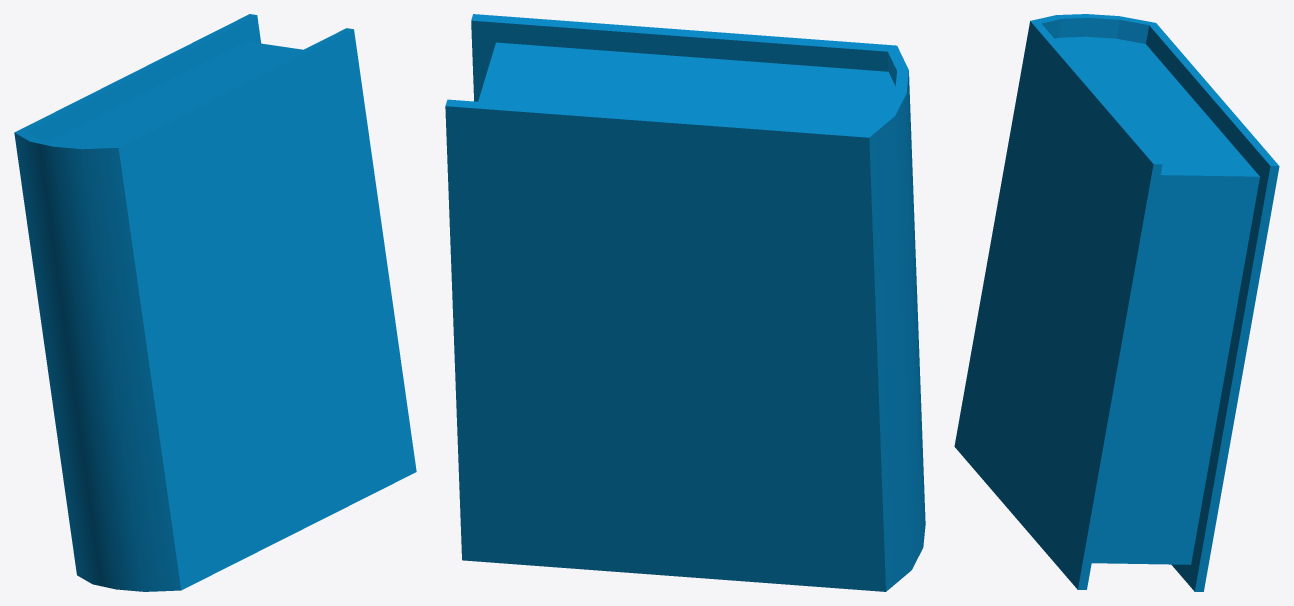
File: HalloweenRoomA_BooksD.fbx
3 renders of one model, left to right at view 1: azimuth 30°, elevation 25°; view 2: azimuth 150°, elevation 25°; view 3: azimuth 270°, elevation 25°, orthographic. The views are drawn at different scales.
Visible parts, largest first — view 1: HalloweenRoomA_BooksD; view 2: HalloweenRoomA_BooksD; view 3: HalloweenRoomA_BooksD.
Boxes of the visible parts, box(x1,y1,x2,y2) form: HalloweenRoomA_BooksD: box(14, 14, 416, 591); HalloweenRoomA_BooksD: box(445, 14, 925, 591); HalloweenRoomA_BooksD: box(954, 14, 1279, 591).
Bounding box in the file's own units: 24.29 × 28.07 × 18.99.
